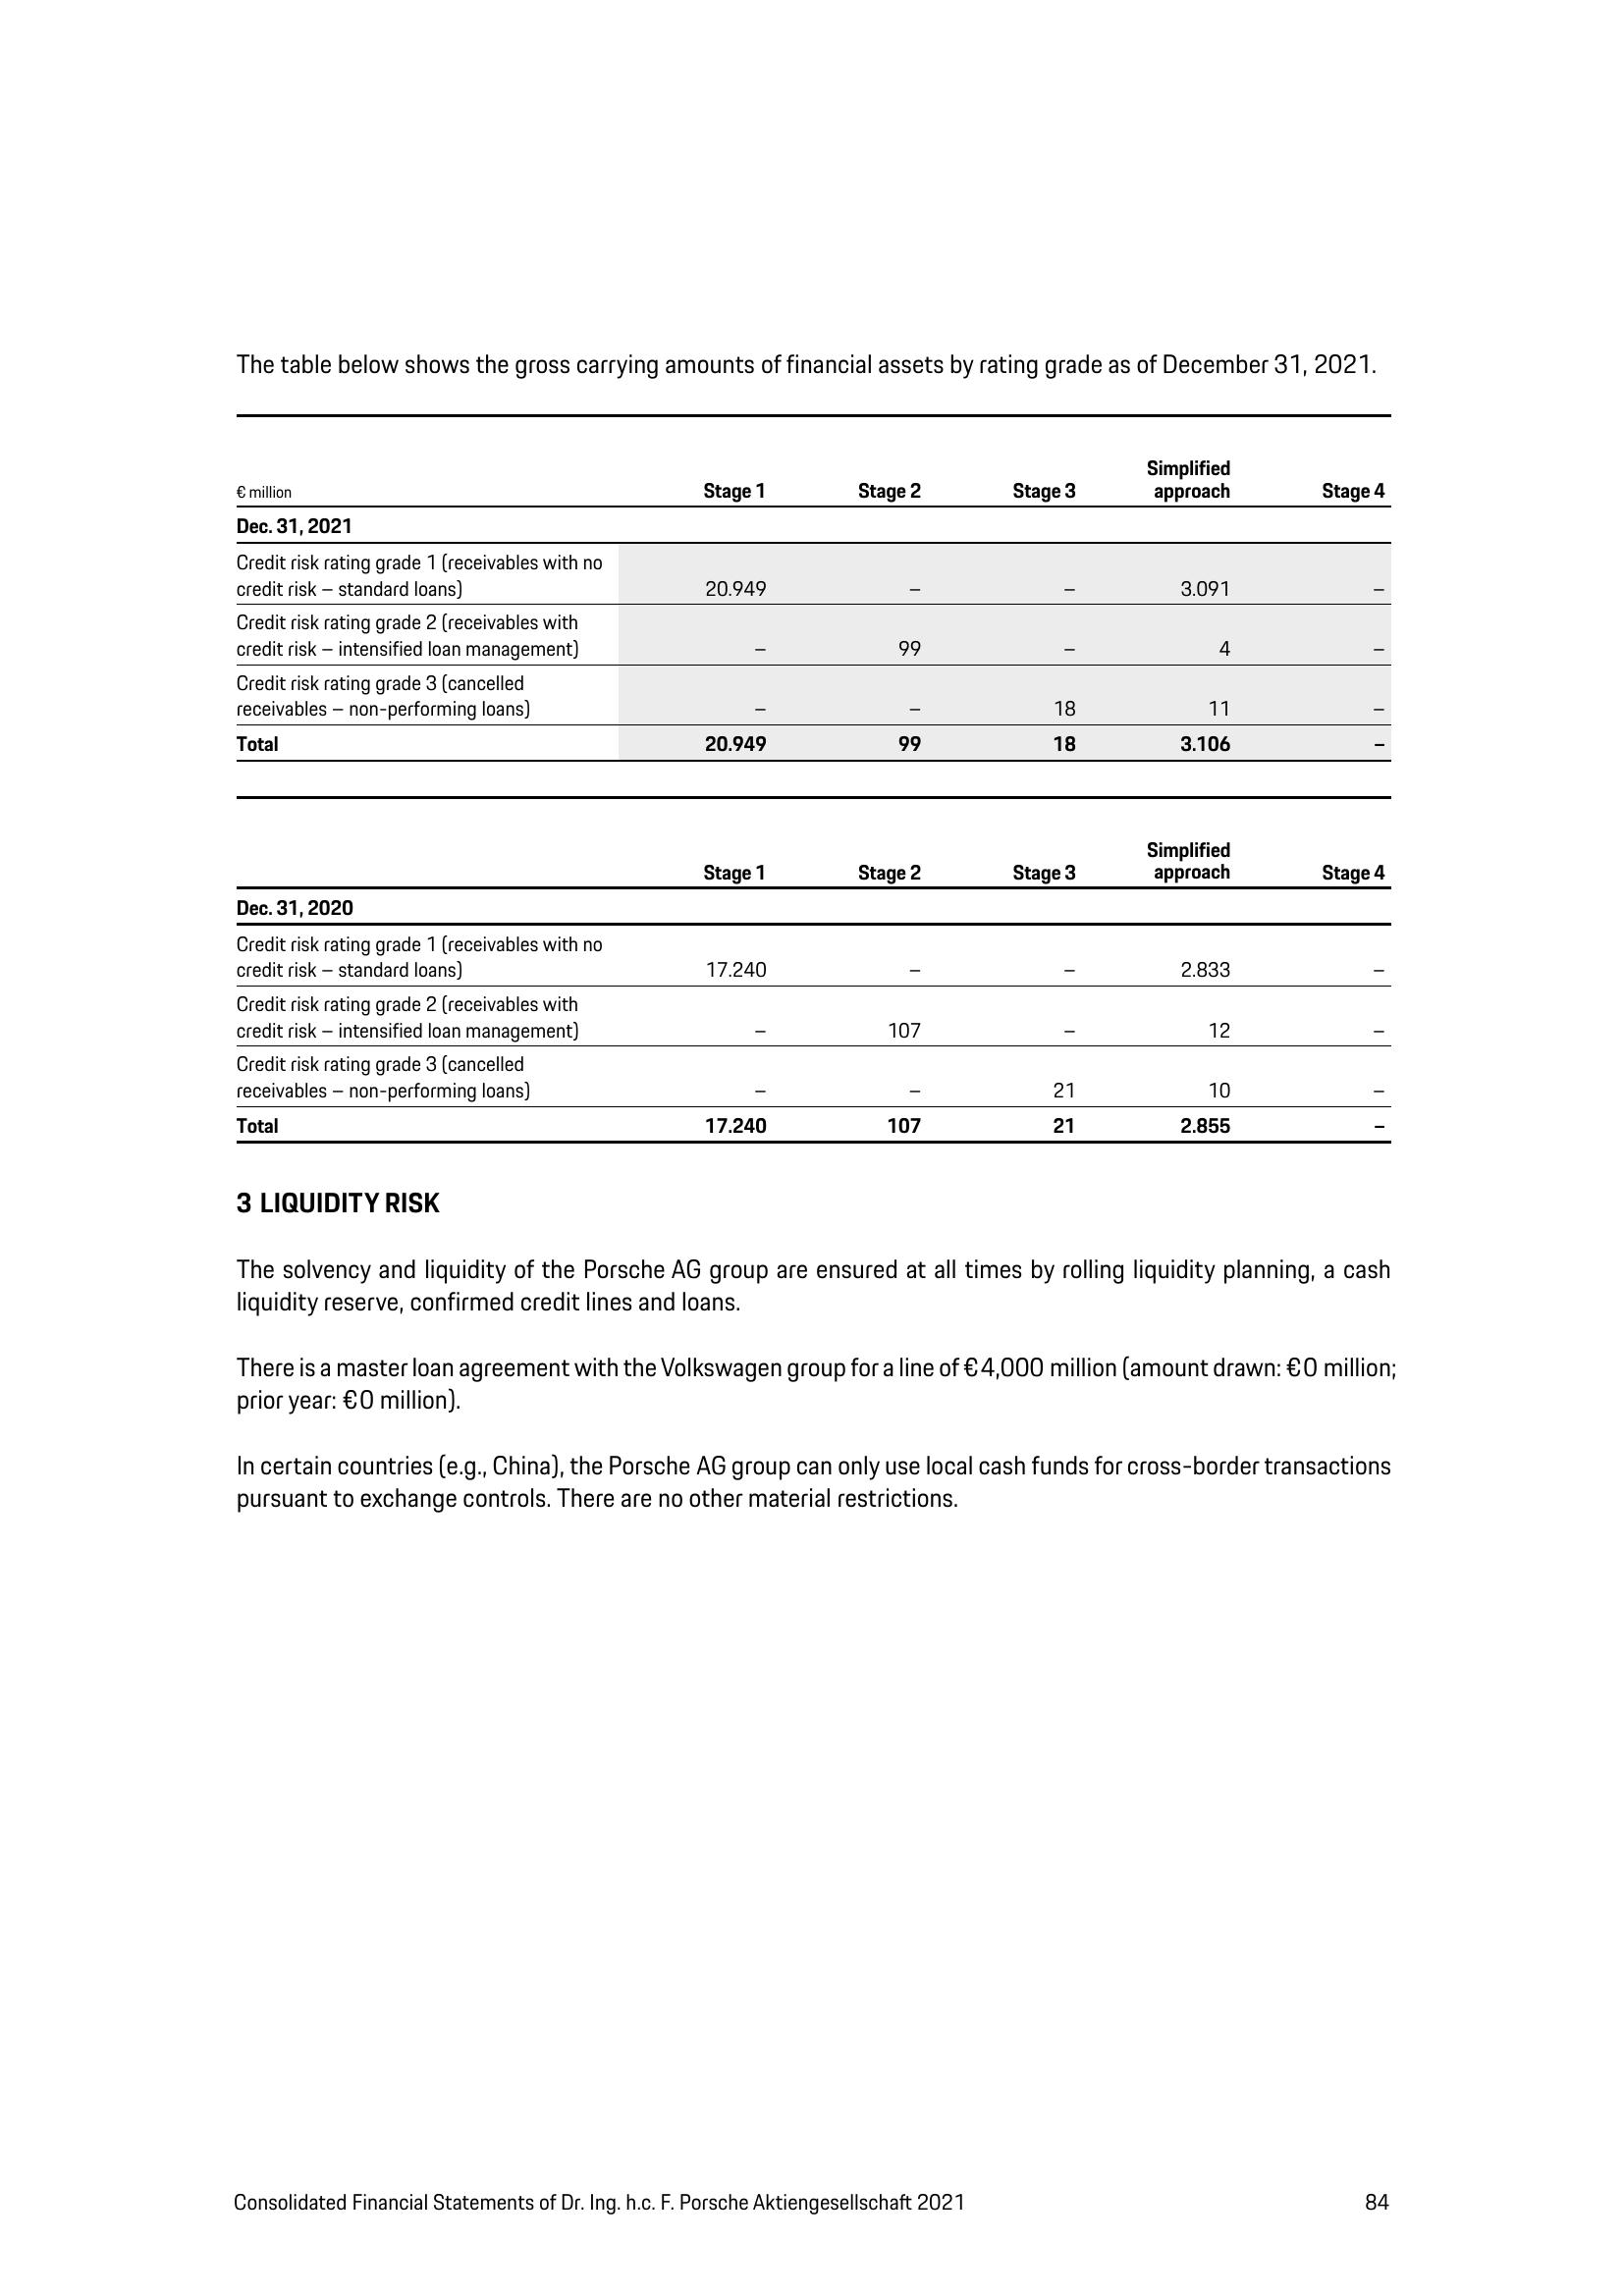Footer: (0, 2134, 1624, 2296)
Header: (0, 0, 1624, 232)
Table: (204, 787, 1446, 1182), (181, 390, 1420, 766)
